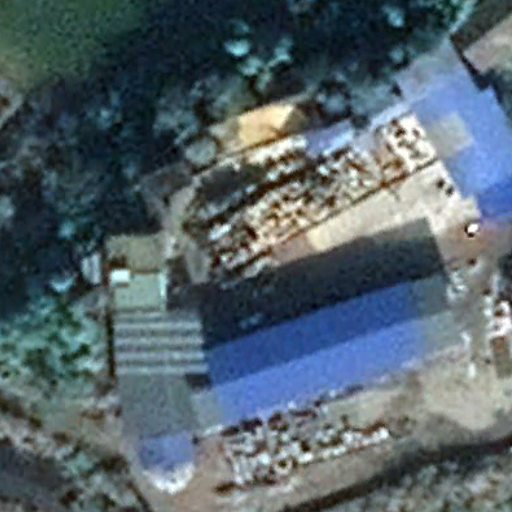msw: (207, 142, 378, 250)
